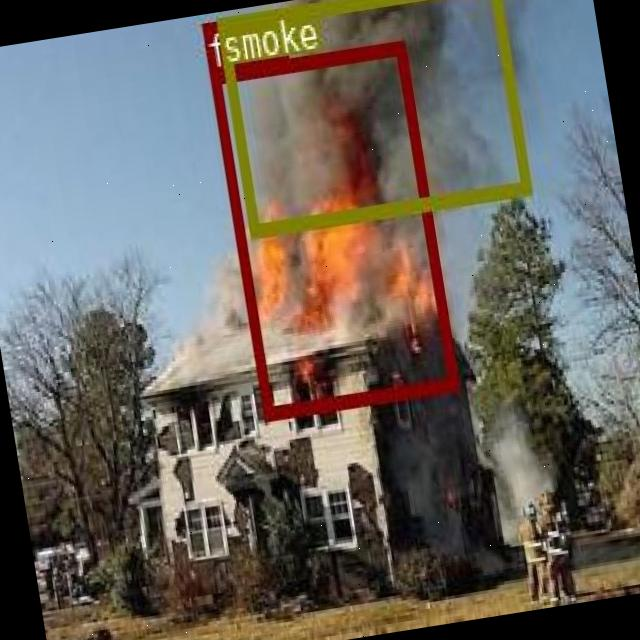fire: (208, 41, 458, 420)
smoke: (215, 0, 528, 235)
